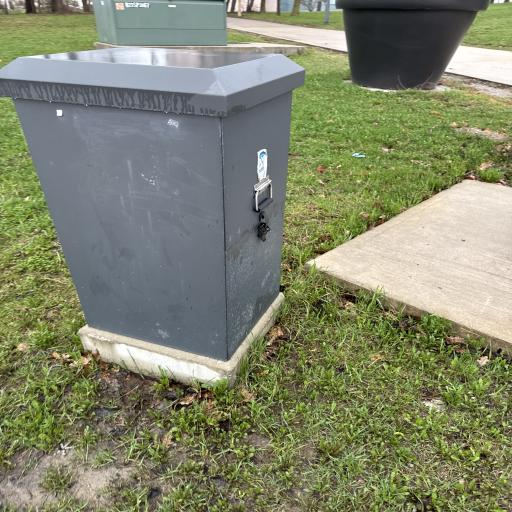Electrical Box: (2, 48, 308, 389), (85, 0, 240, 50)
